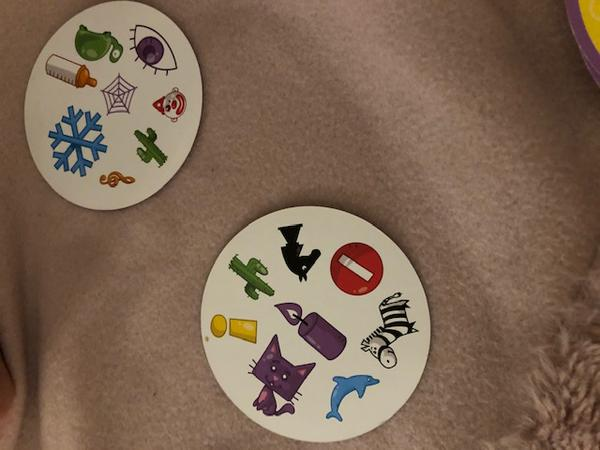biberon: (44, 52, 97, 92)
bougie: (269, 295, 349, 364)
cactus: (224, 252, 278, 305), (132, 121, 166, 171)
chat: (245, 333, 317, 418)
cheval: (273, 221, 323, 286)
clown: (150, 85, 188, 125)
dauphin: (319, 368, 382, 423)
flocon: (46, 105, 109, 178)
note: (96, 169, 136, 189)
oeuil: (127, 21, 178, 77)
point_exclamation: (205, 310, 262, 349)
point_interrogation: (132, 121, 166, 171)
sens_interdit: (326, 241, 384, 297)
toile: (98, 73, 140, 118)
tortue: (72, 22, 125, 66)
zebre: (359, 290, 420, 369)
